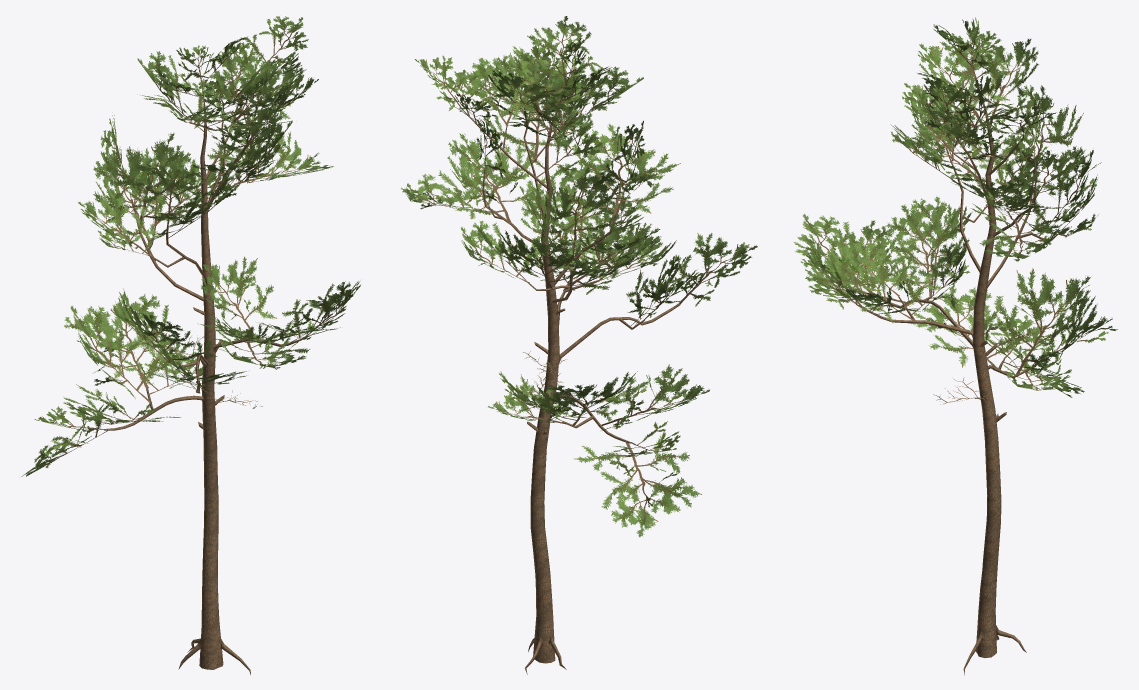
The picture shows the model from 3 angles, left to right: view 1: azimuth 30°, elevation 25°; view 2: azimuth 150°, elevation 25°; view 3: azimuth 270°, elevation 25°; orthographic projection. The views are drawn at different scales.
Parts seen in each view (by area): view 1: Pine_medium_3_LOD1_Bark_Mat_0; view 2: Pine_medium_3_LOD1_Bark_Mat_0; view 3: Pine_medium_3_LOD1_Bark_Mat_0.
Part boxes in pixels (box(x1,y1,x2,y2)): Pine_medium_3_LOD1_Bark_Mat_0: box(21, 16, 360, 674); Pine_medium_3_LOD1_Bark_Mat_0: box(401, 16, 757, 674); Pine_medium_3_LOD1_Bark_Mat_0: box(793, 17, 1117, 675).
Size of the model in its own units: 5.3 by 10.47 by 5.
